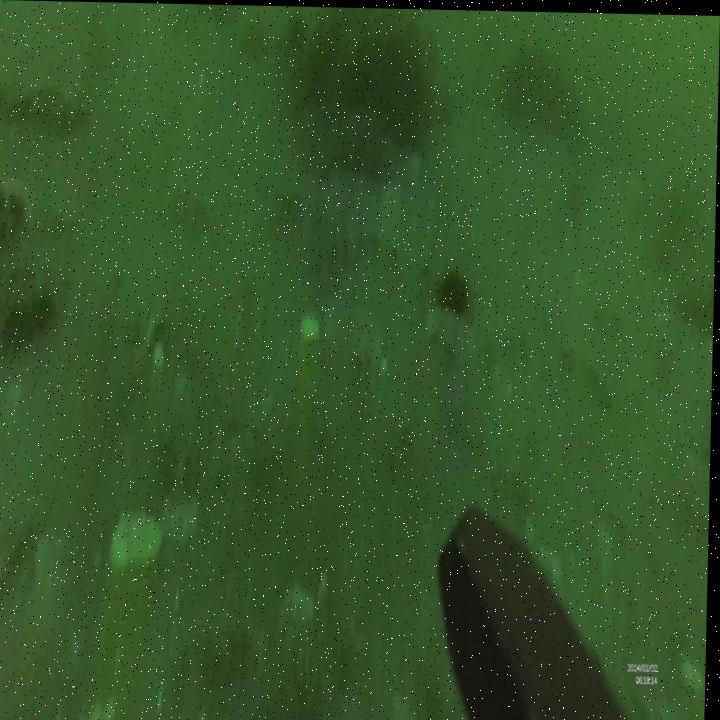echinus: (439, 264, 472, 315)
